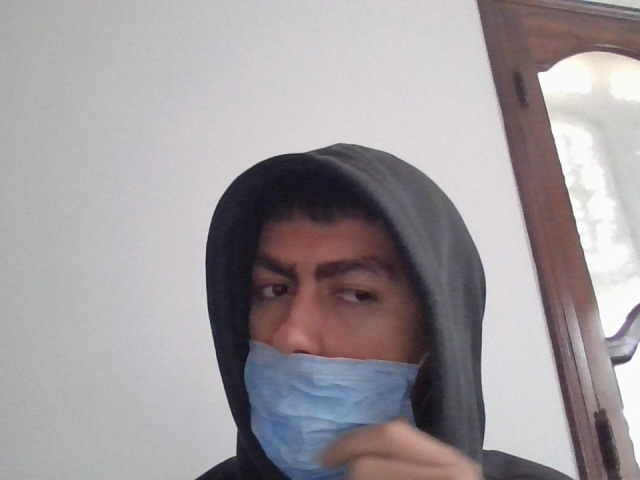mask_weared_incorrect: (240, 185, 436, 479)
